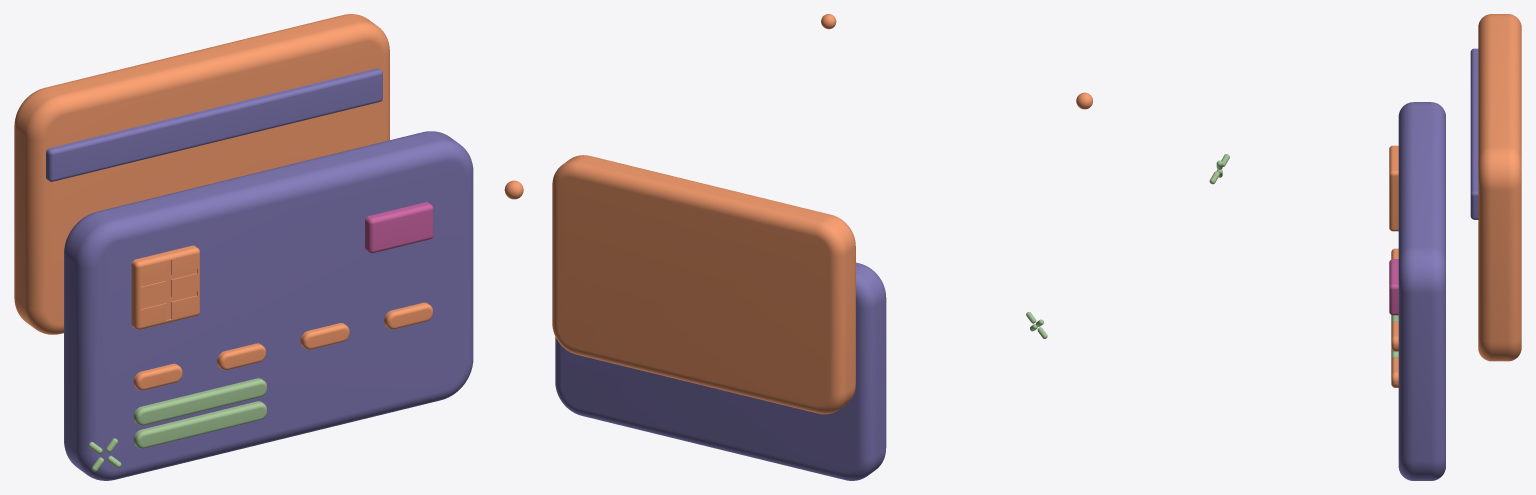
File: credit-card-3d-animated-icon-1453202114886.glb
3 views of the same model, side by side, from view 1: azimuth 30°, elevation 25°; view 2: azimuth 150°, elevation 25°; view 3: azimuth 270°, elevation 25° (orthographic). The views are drawn at different scales.
Visible parts, largest first — view 1: Cube, Cube.008, Cube.009, Cube.001, Cube.007, Cube.005, Cube.006, Cube.003, Cube.004, Cube.002, Cube.010; view 2: Cube.008, Cube; view 3: Cube, Cube.008, Cube.009, Cube.001, Cube.007.
Boxes of the visible parts, box(x1,y1,x2,y2) form: Cube: box(64, 131, 473, 480); Cube.008: box(14, 14, 389, 334); Cube.009: box(46, 68, 382, 181); Cube.001: box(131, 245, 199, 329); Cube.007: box(365, 202, 433, 253); Cube.005: box(133, 378, 266, 425); Cube.006: box(133, 401, 266, 448); Cube.003: box(300, 323, 349, 349); Cube.004: box(133, 363, 182, 390); Cube.002: box(217, 343, 265, 370); Cube.010: box(384, 302, 432, 329); Cube.008: box(552, 155, 855, 414); Cube: box(555, 262, 886, 480); Cube: box(1398, 102, 1445, 480); Cube.008: box(1478, 14, 1521, 361); Cube.009: box(1470, 48, 1478, 219); Cube.001: box(1389, 145, 1398, 231); Cube.007: box(1389, 259, 1398, 315).
Size of the model in its own units: 1.85 by 1.37 by 1.64.
